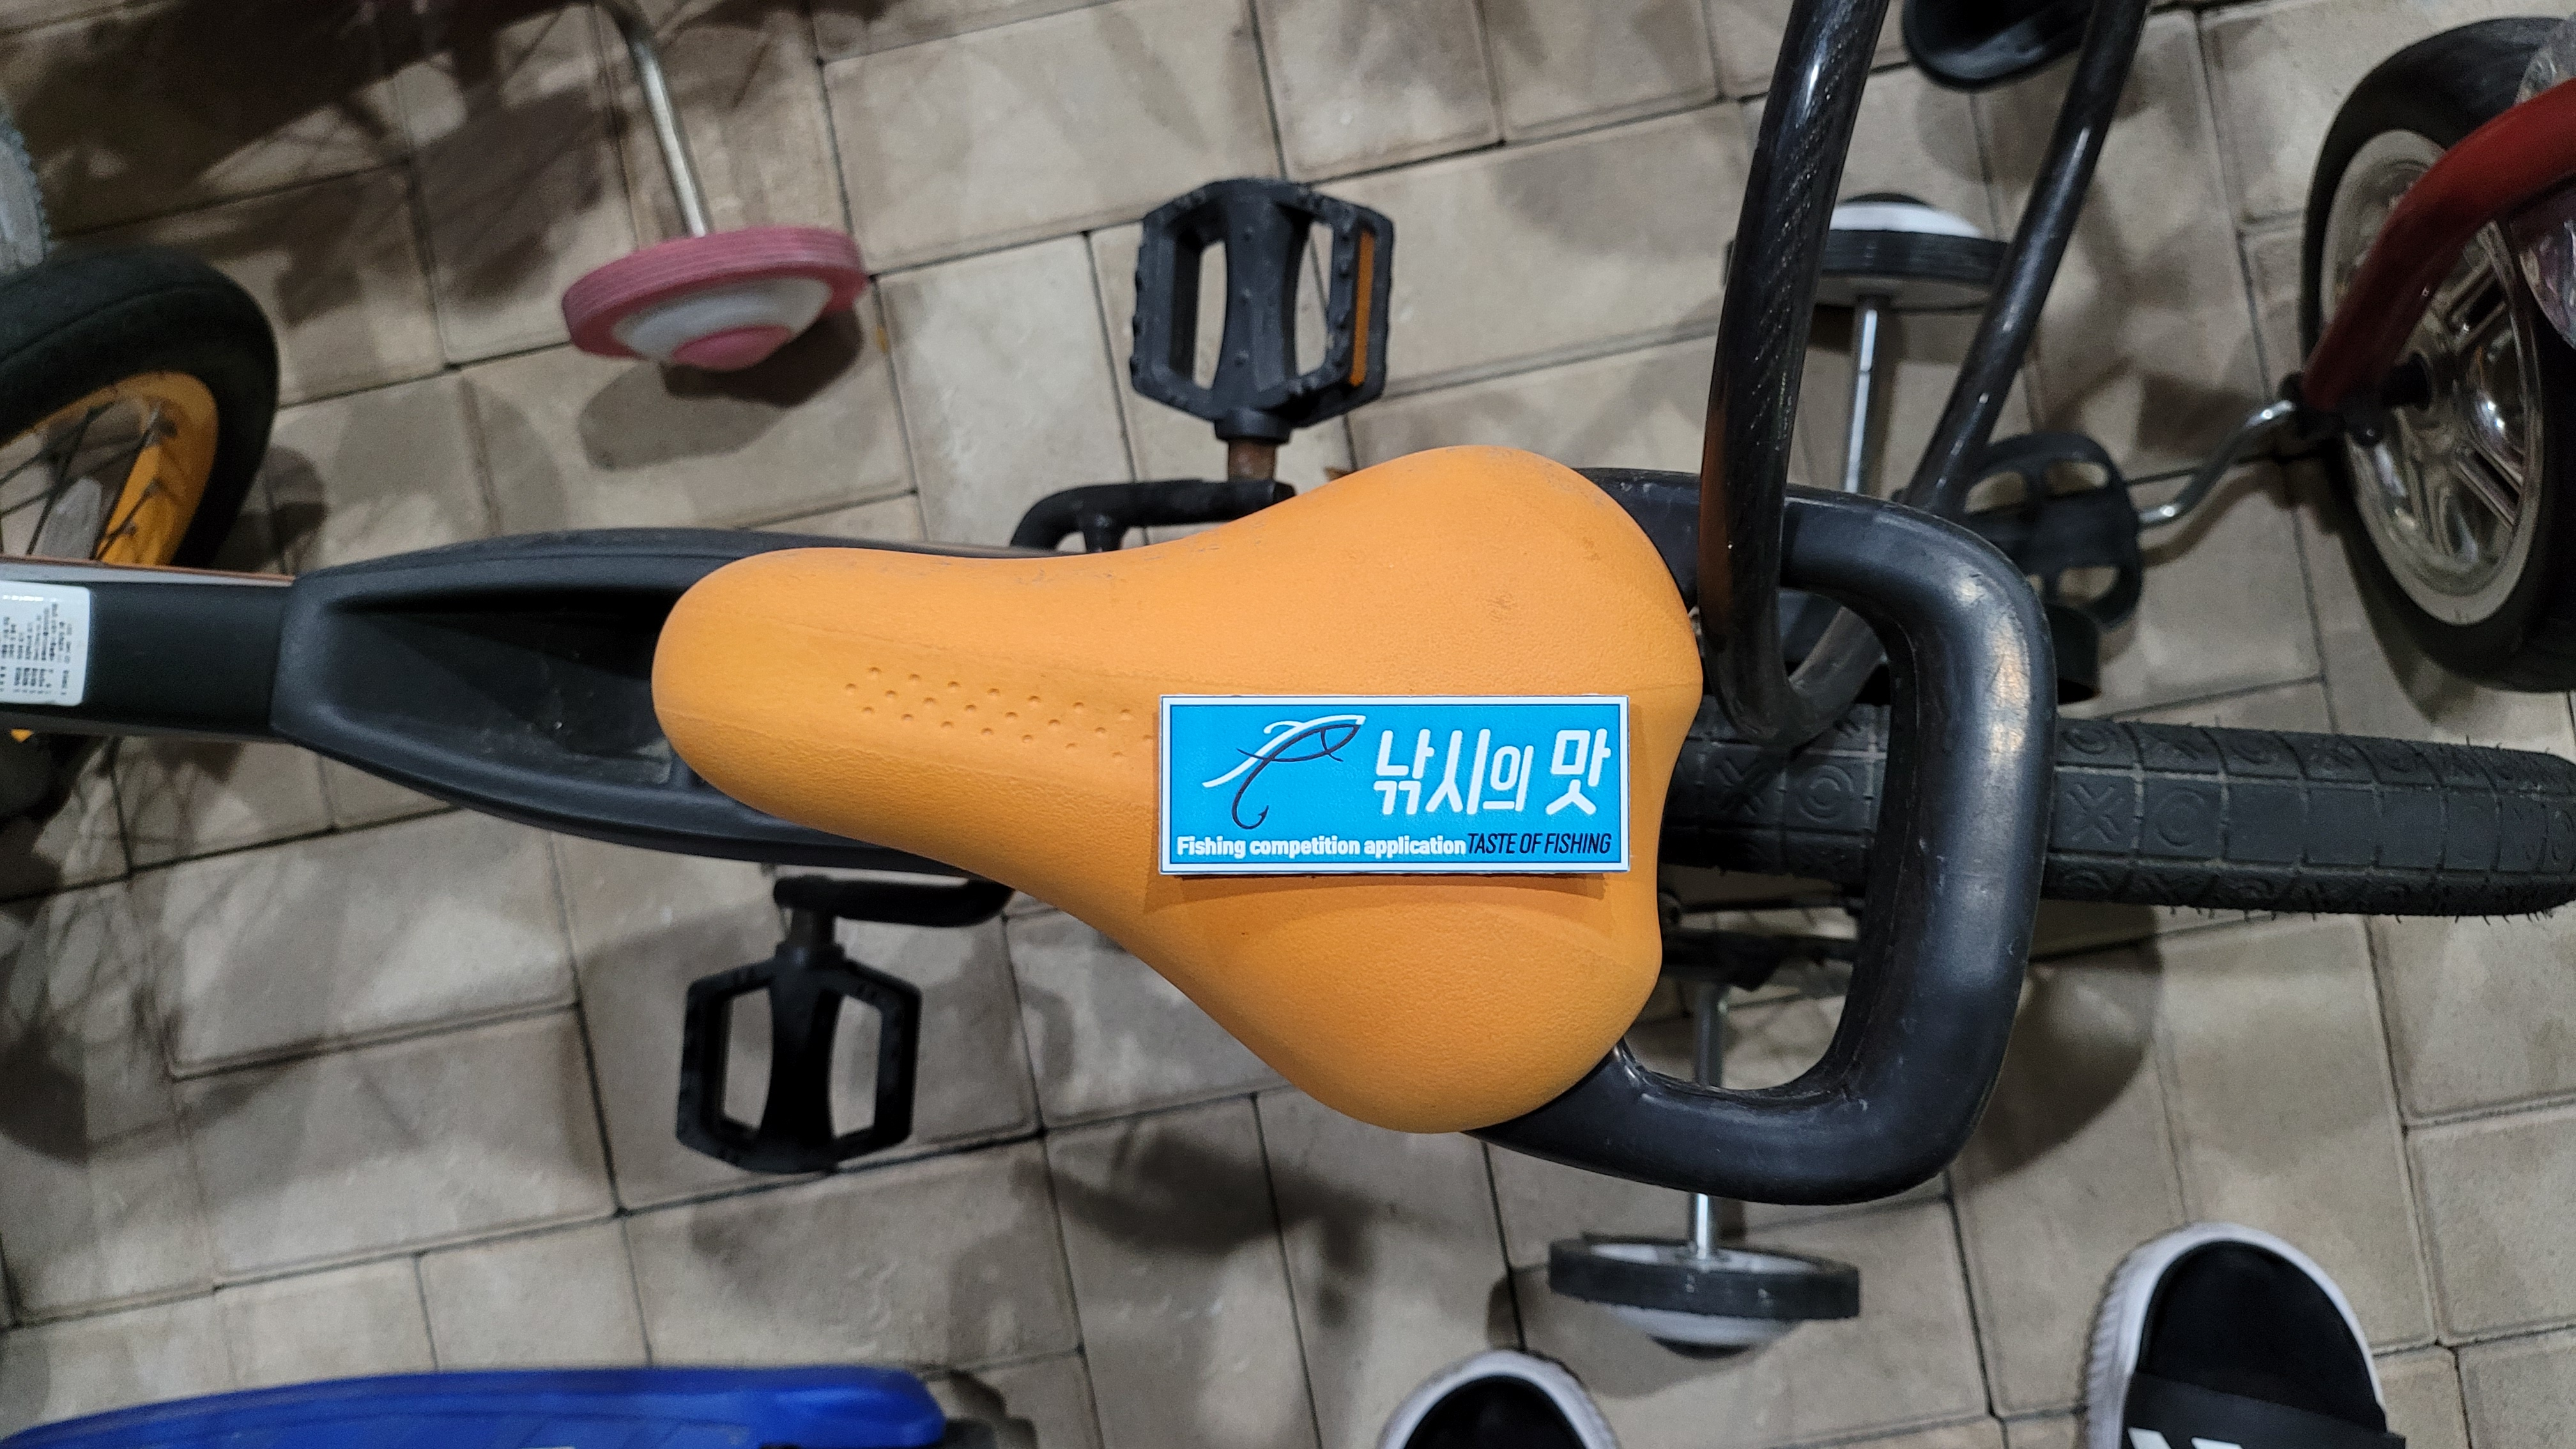tag: (1162, 701, 1631, 876)
